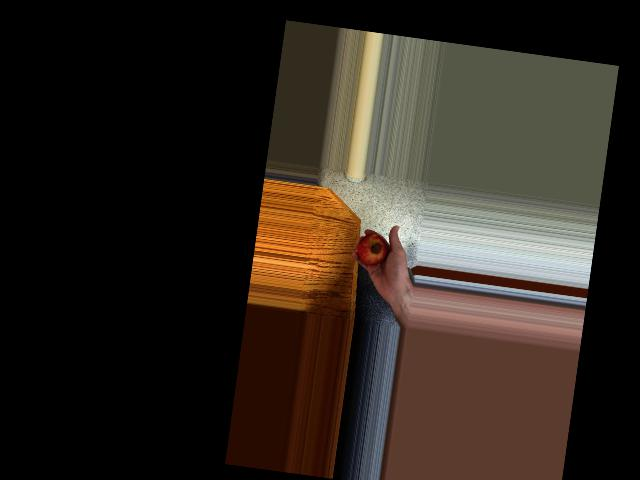apple: (355, 229, 394, 271)
